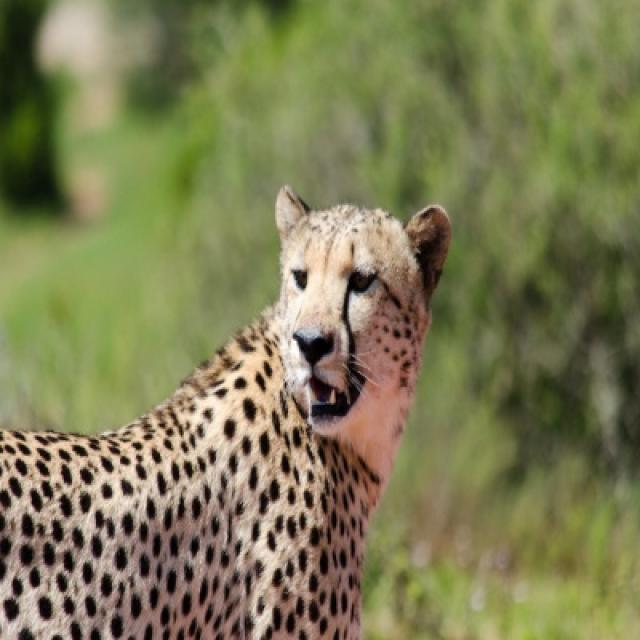Cheetah: (0, 186, 453, 638)
